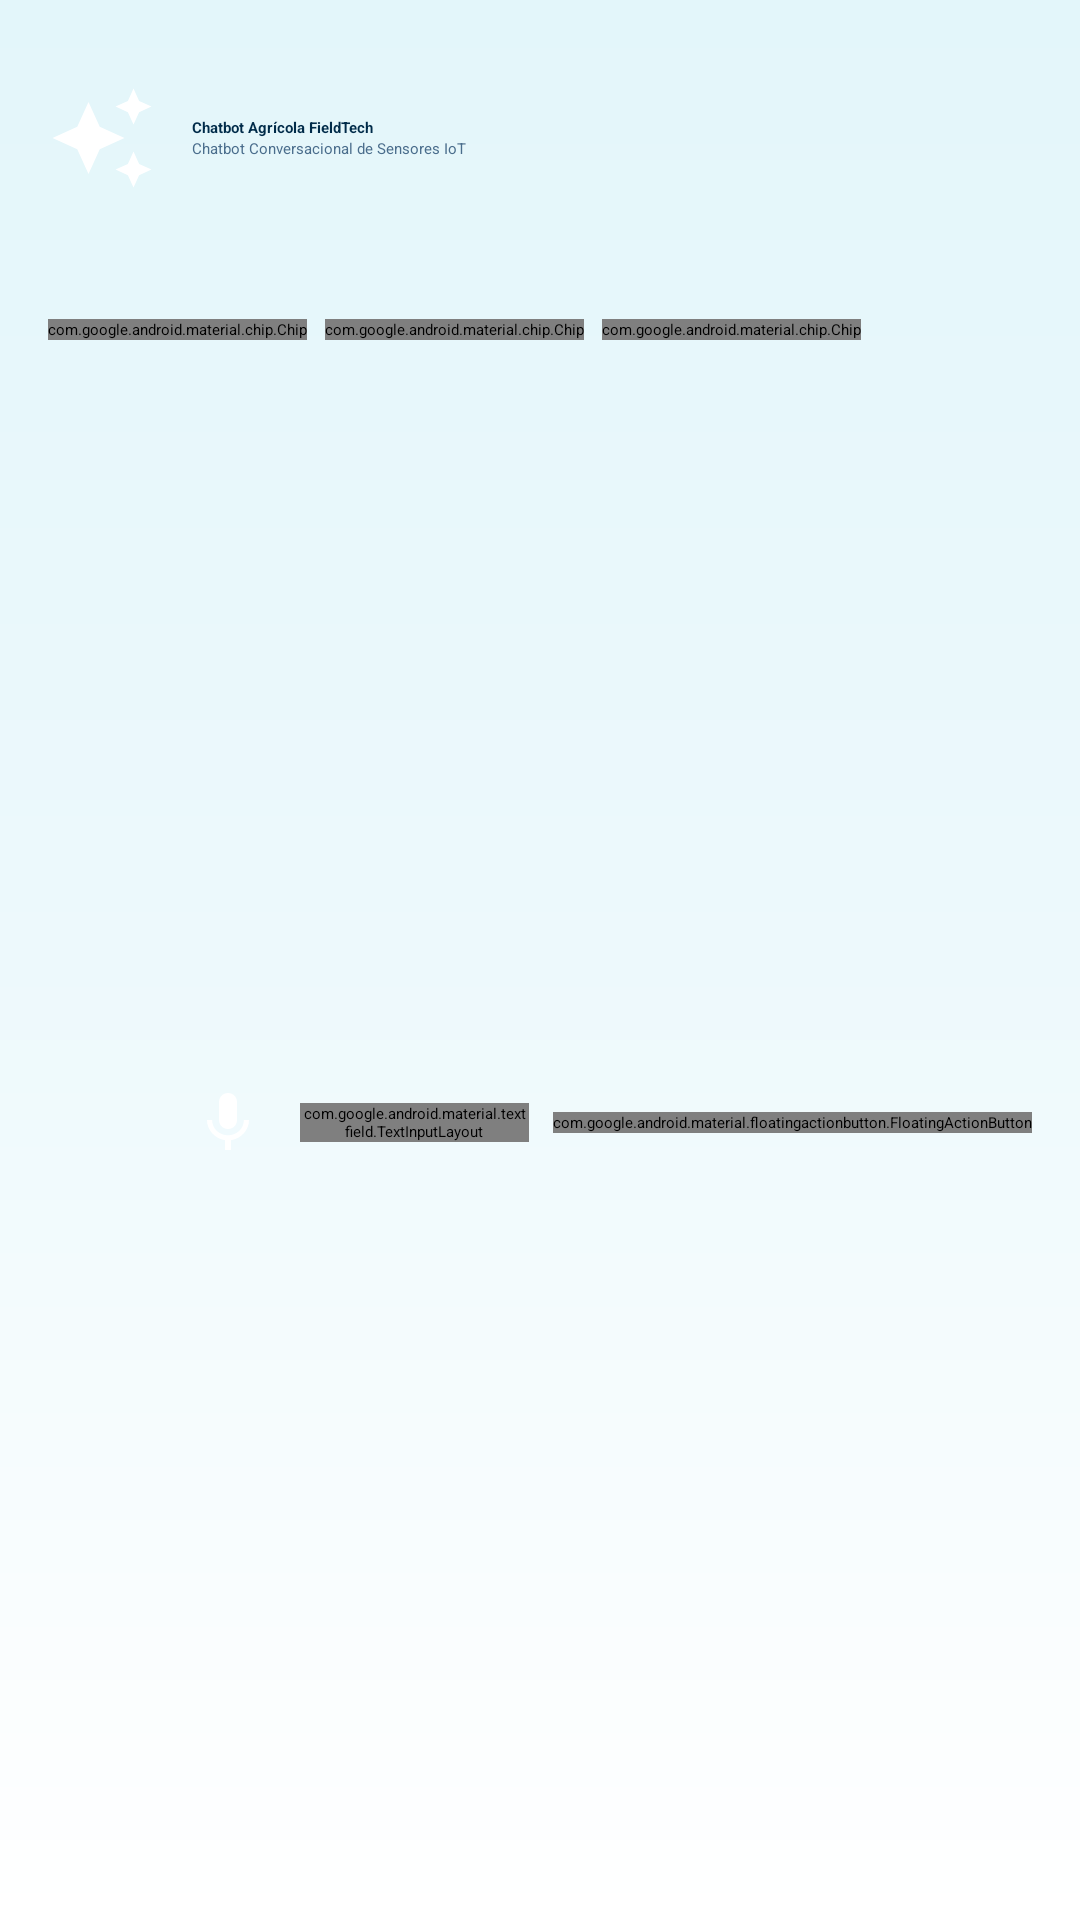

Icons on this 1080x1920 Android screen, each with its box as (left=x1, top=y1, right=x2, bottom=y2):
sparkles: (left=55, top=90, right=150, bottom=186)
